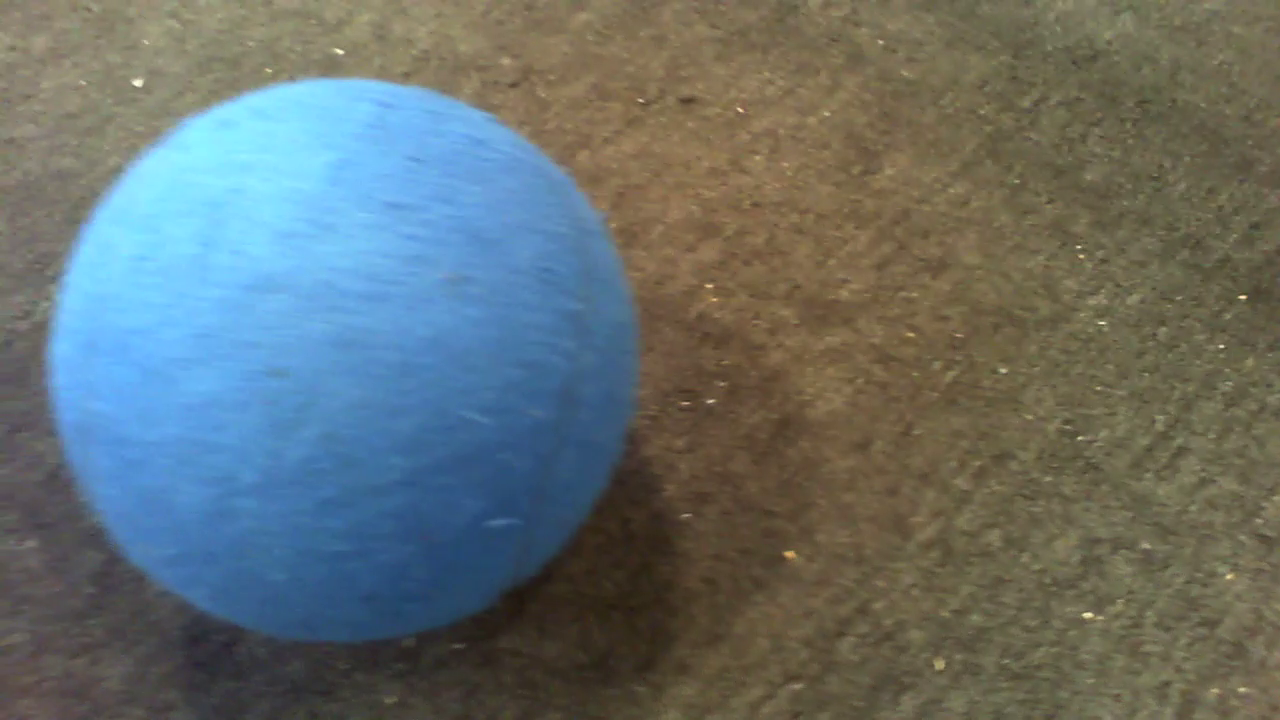blue_cargo: (48, 56, 658, 659)
